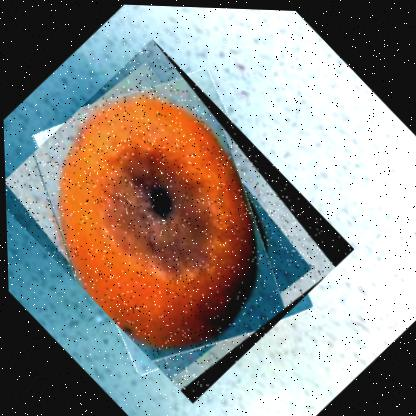orange_rotten: (1, 33, 357, 409)
